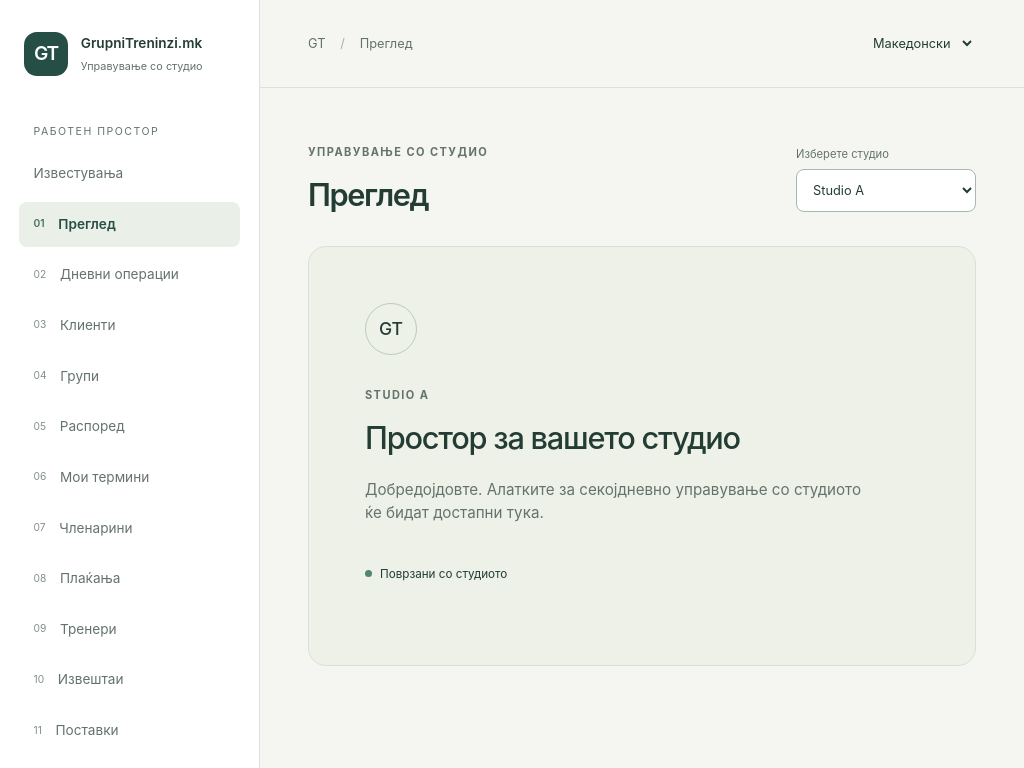
persists a verified organization switch before rendering the destination
Expected: the heading "Простор за вашето студио" is shown, x1=365 y1=419 x2=740 y2=456
Step 1. Select "Studio B" in the dropdown labelled "Изберете студио" → (886, 190), box x1=796 y1=169 x2=976 y2=212
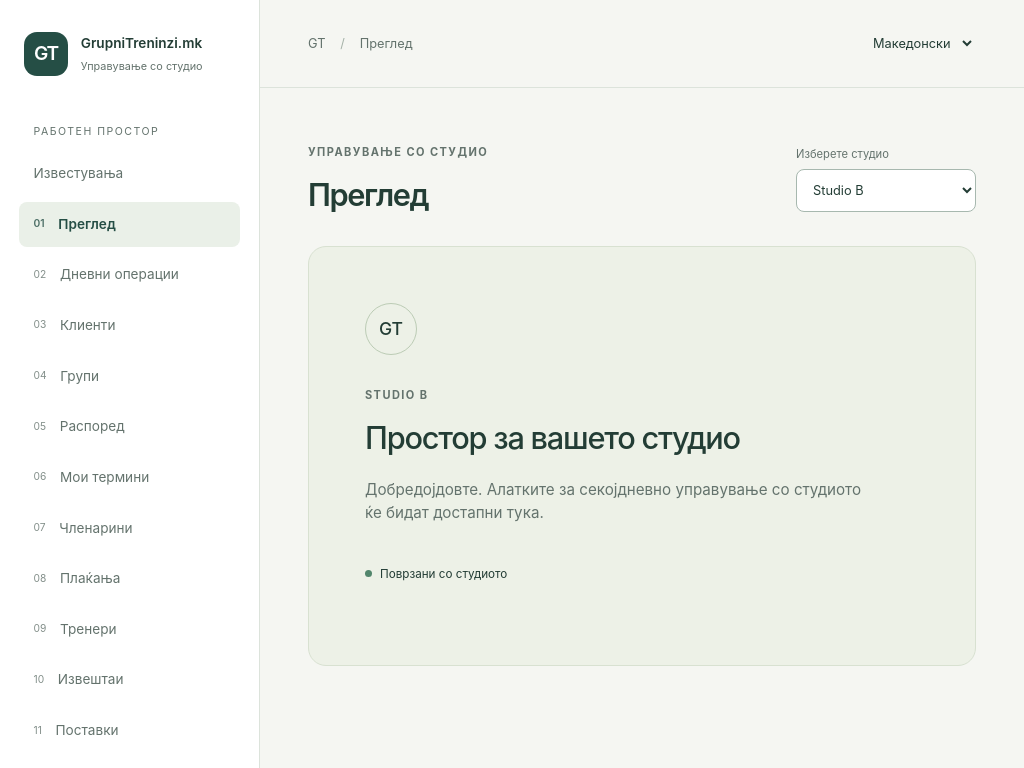
Now the text "Studio B" is shown, box x1=365 y1=388 x2=428 y2=402
